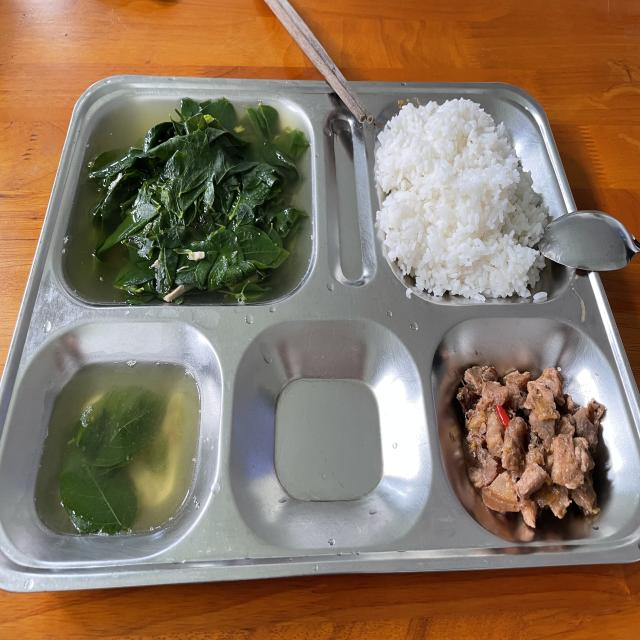com: (375, 99, 548, 299)
kho tieu: (456, 366, 606, 530)
